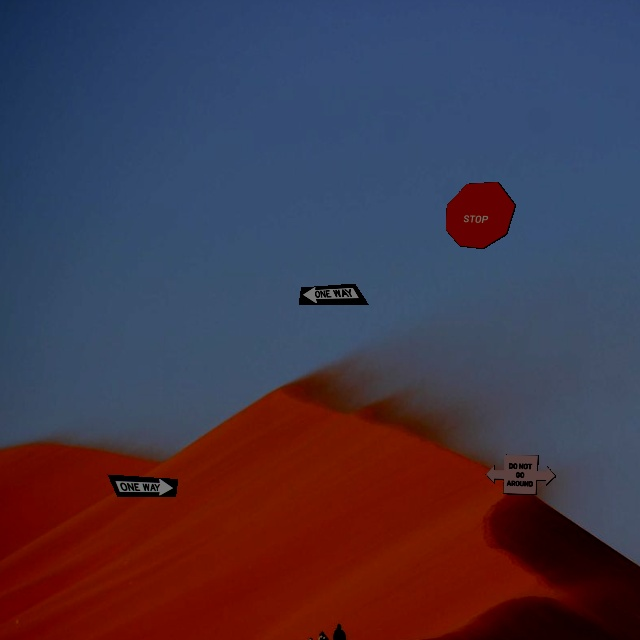DO_NOT_GO_AROUND: (485, 454, 556, 495)
ONE_WAY_ left: (298, 283, 369, 305)
ONE_WAY_ right: (107, 474, 178, 497)
STOP: (445, 181, 516, 249)
